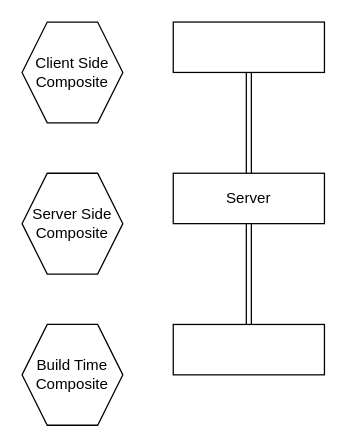
This 347x447 diagram has some shape labels left out. Each missing label, with the centre of its shape:
"Browser" goes at (248,46).
"Build" goes at (248,349).
